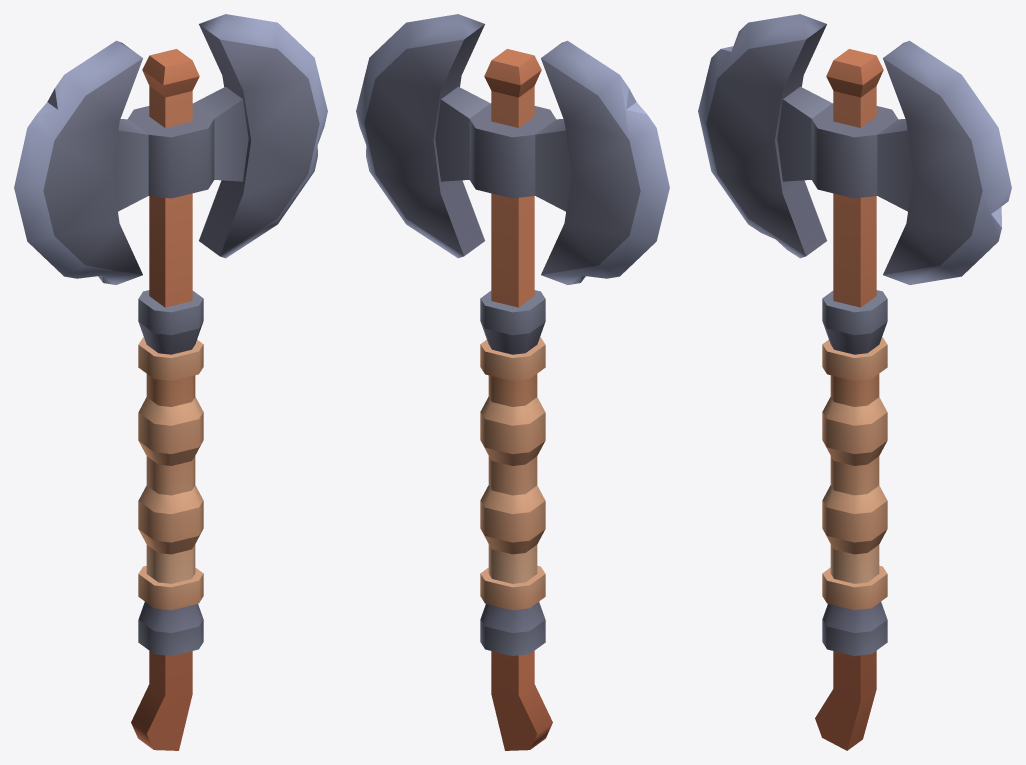
The model's file is axe-double-long.fbx.
3 views of the same model, side by side, from view 1: azimuth 30°, elevation 25°; view 2: azimuth 150°, elevation 25°; view 3: azimuth 330°, elevation 25° (orthographic).
Parts seen in each view (by area): view 1: axe-double-long; view 2: axe-double-long; view 3: axe-double-long.
Boxes of the visible parts, left/top/right/bottom form: axe-double-long: left=14, top=14, right=327, bottom=750; axe-double-long: left=356, top=14, right=669, bottom=750; axe-double-long: left=698, top=14, right=1011, bottom=750.
Bounding box in the file's own units: 215 × 470 × 45.
Materials: 1 (1 with a texture image).
